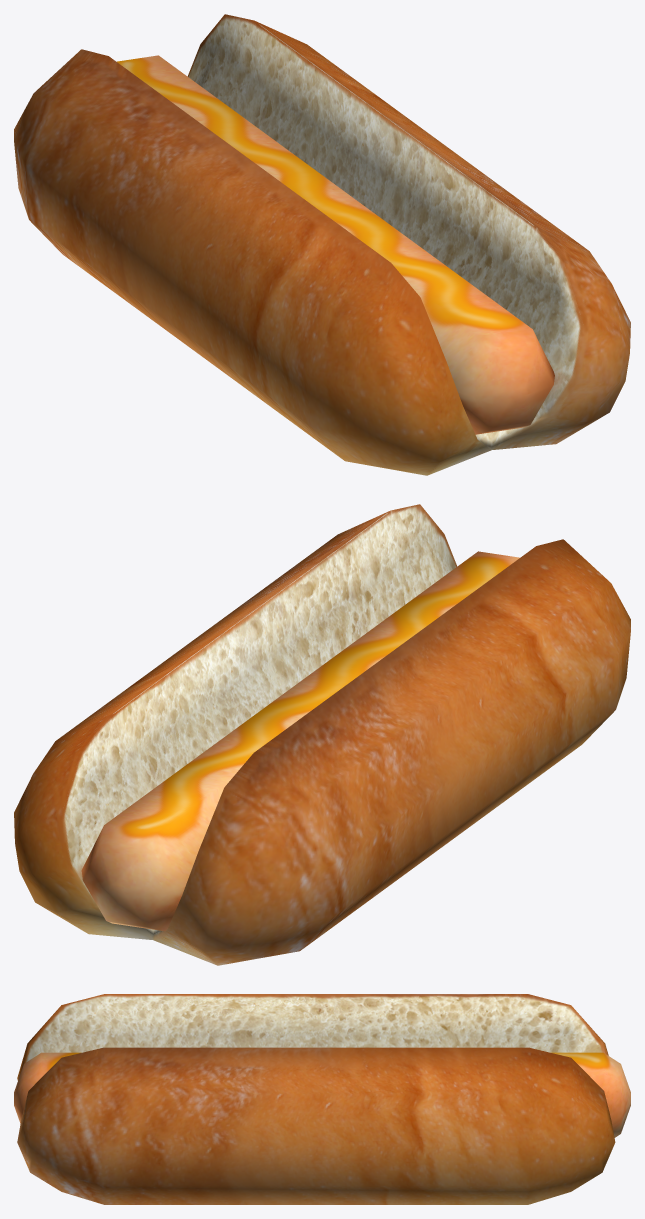
Rendered from FFHP_MOD_Hot_dog.fbx.
3 views of the same model, one above another, from view 1: azimuth 30°, elevation 25°; view 2: azimuth 150°, elevation 25°; view 3: azimuth 270°, elevation 25° (orthographic). The views are drawn at different scales.
Visible parts, largest first — view 1: FFHP_MOD_Hot_dog; view 2: FFHP_MOD_Hot_dog; view 3: FFHP_MOD_Hot_dog.
Part boxes in pixels (left/top/right/bottom): FFHP_MOD_Hot_dog: left=14, top=14, right=630, bottom=475; FFHP_MOD_Hot_dog: left=14, top=504, right=630, bottom=965; FFHP_MOD_Hot_dog: left=14, top=994, right=630, bottom=1204.
Bounding box in the file's own units: 0.3527 × 0.2242 × 0.8105.
